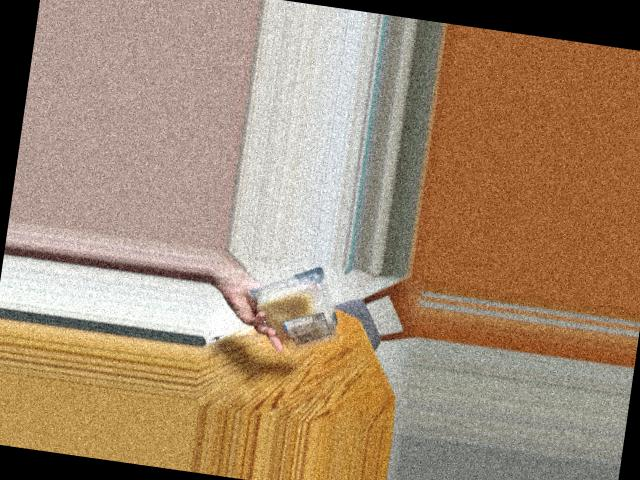cheese: (243, 264, 346, 342)
